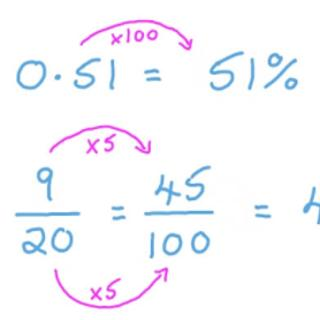.: (49, 70, 65, 86)
0: (13, 56, 48, 93), (186, 227, 215, 260), (52, 221, 75, 258), (161, 230, 182, 260)
1: (103, 55, 121, 98), (244, 52, 259, 95), (145, 230, 158, 263)
2: (17, 222, 49, 257)
4: (152, 172, 183, 208)
5: (203, 48, 246, 95), (183, 160, 214, 208), (71, 53, 103, 97)
9: (32, 162, 62, 207)
